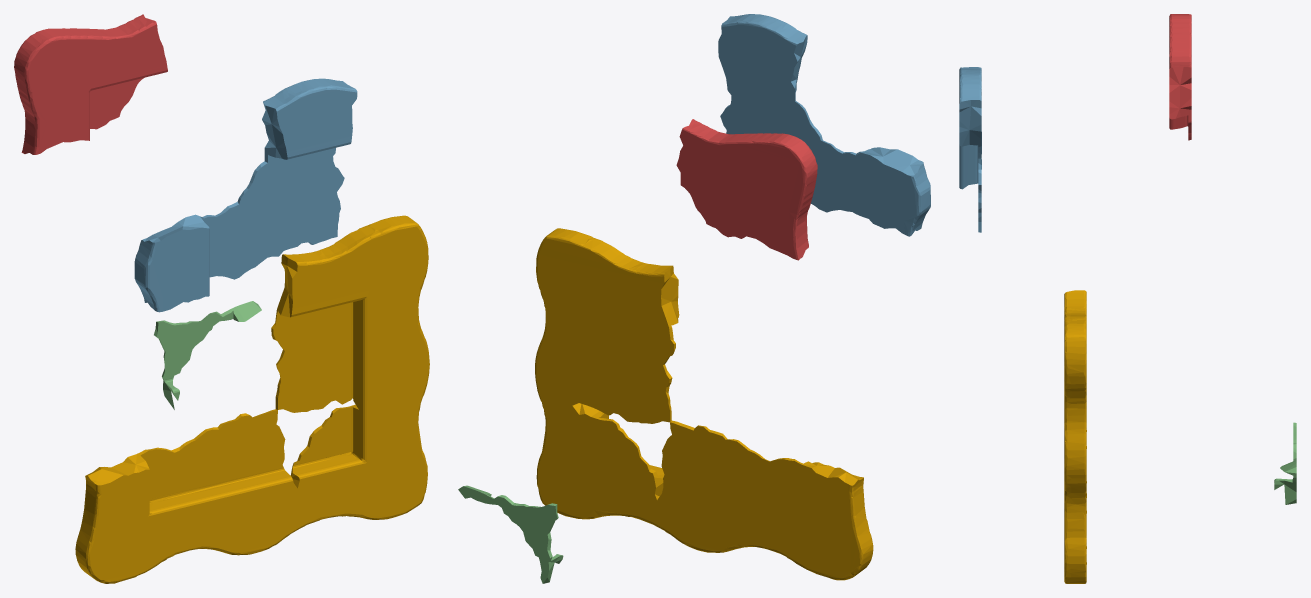
Rendered from fractured_75_4pcs_transformed.glb.
3 views of the same model, side by side, from view 1: azimuth 30°, elevation 25°; view 2: azimuth 150°, elevation 25°; view 3: azimuth 270°, elevation 25° (orthographic). The views are drawn at different scales.
Visible parts, largest first — view 1: piece_0.obj, piece_2.obj, piece_1.obj, piece_3.obj; view 2: piece_0.obj, piece_2.obj, piece_1.obj, piece_3.obj; view 3: piece_0.obj, piece_2.obj, piece_1.obj, piece_3.obj.
Part boxes in pixels (x1=…): piece_0.obj: x1=75, y1=215, x2=429, y2=583; piece_2.obj: x1=134, y1=78, x2=357, y2=312; piece_1.obj: x1=14, y1=14, x2=167, y2=154; piece_3.obj: x1=154, y1=301, x2=261, y2=409; piece_0.obj: x1=535, y1=228, x2=873, y2=580; piece_2.obj: x1=718, y1=14, x2=930, y2=236; piece_1.obj: x1=676, y1=119, x2=817, y2=260; piece_3.obj: x1=458, y1=485, x2=563, y2=583; piece_0.obj: x1=1064, y1=290, x2=1086, y2=583; piece_2.obj: x1=959, y1=67, x2=981, y2=232; piece_1.obj: x1=1169, y1=14, x2=1191, y2=140; piece_3.obj: x1=1274, y1=422, x2=1296, y2=504.
Size of the model in its own units: 1 by 1.41 by 0.9642.
